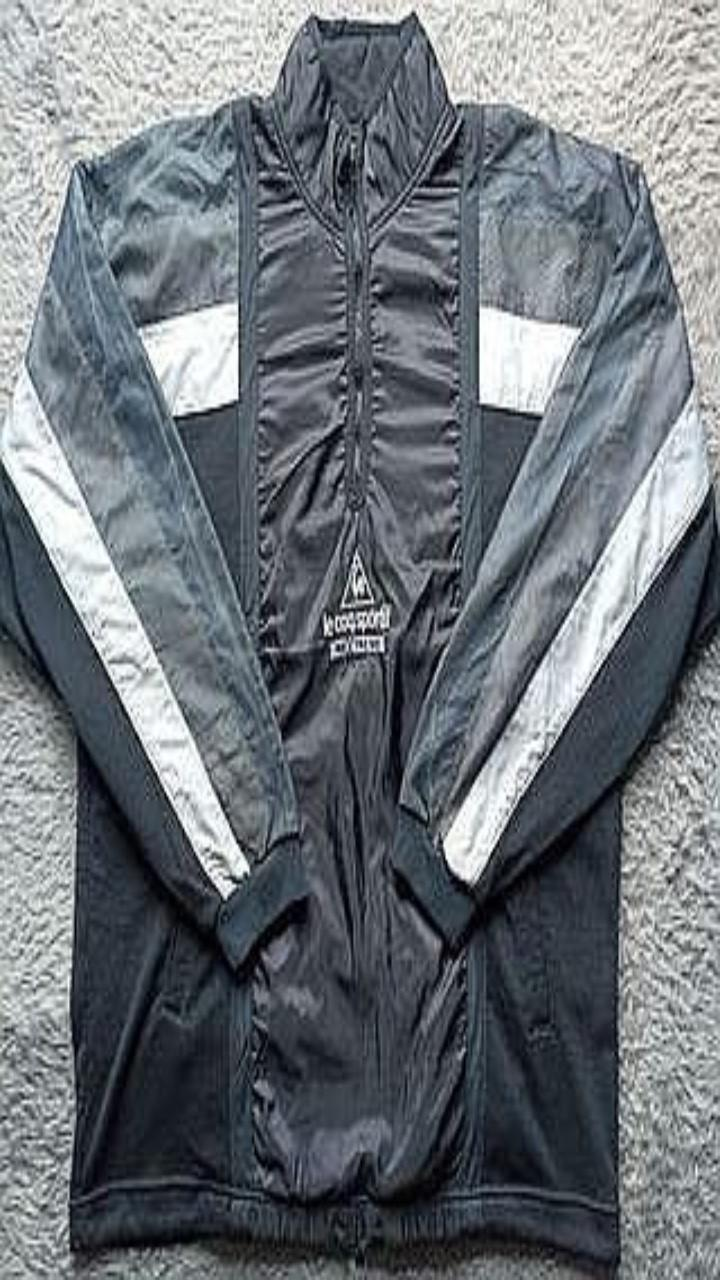Sports_Jacket: (0, 11, 719, 1265)
